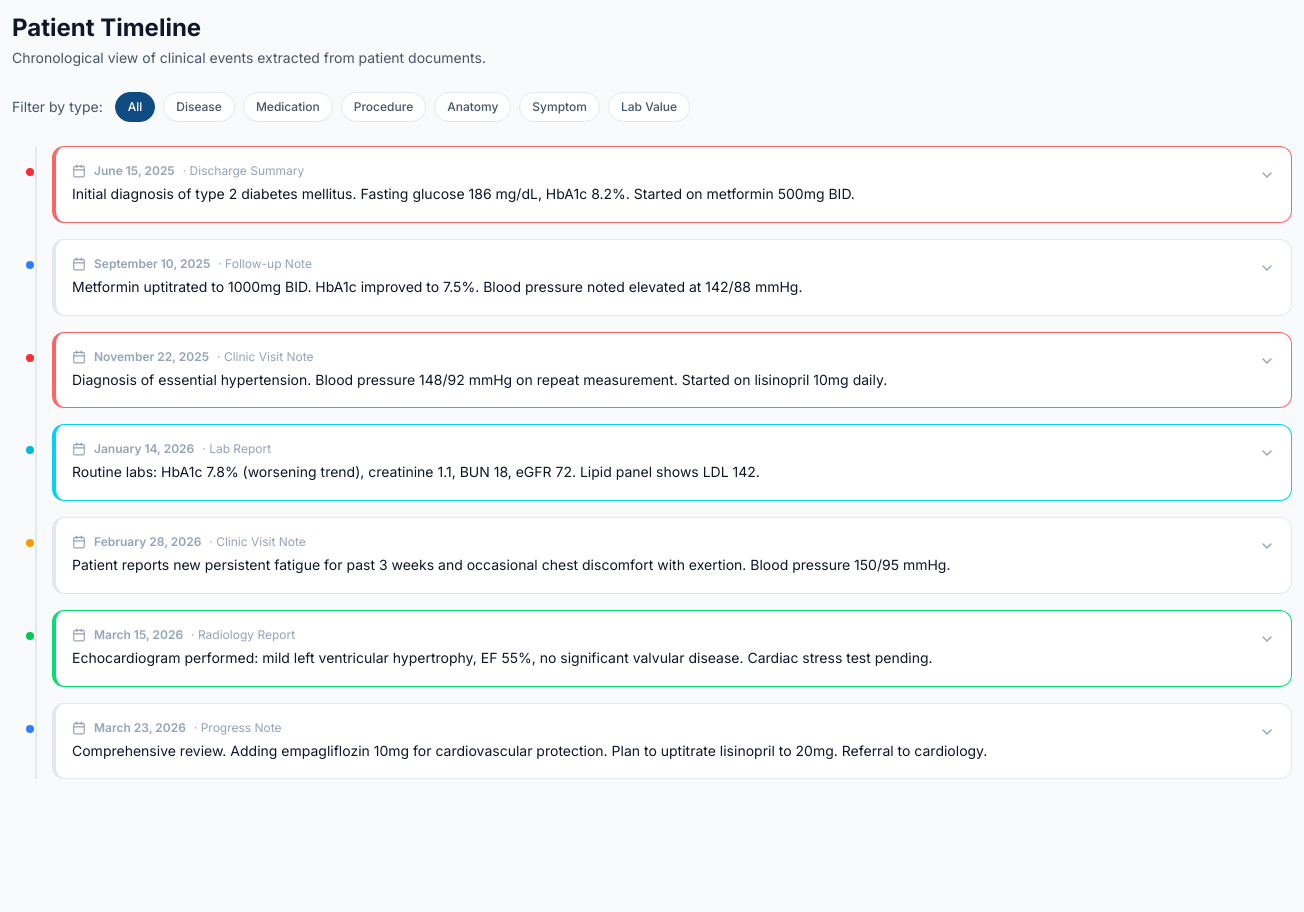
Test case: Timeline › filters to procedure events only
Click the button "Procedure" at (384, 107), box [341,92,426,122]
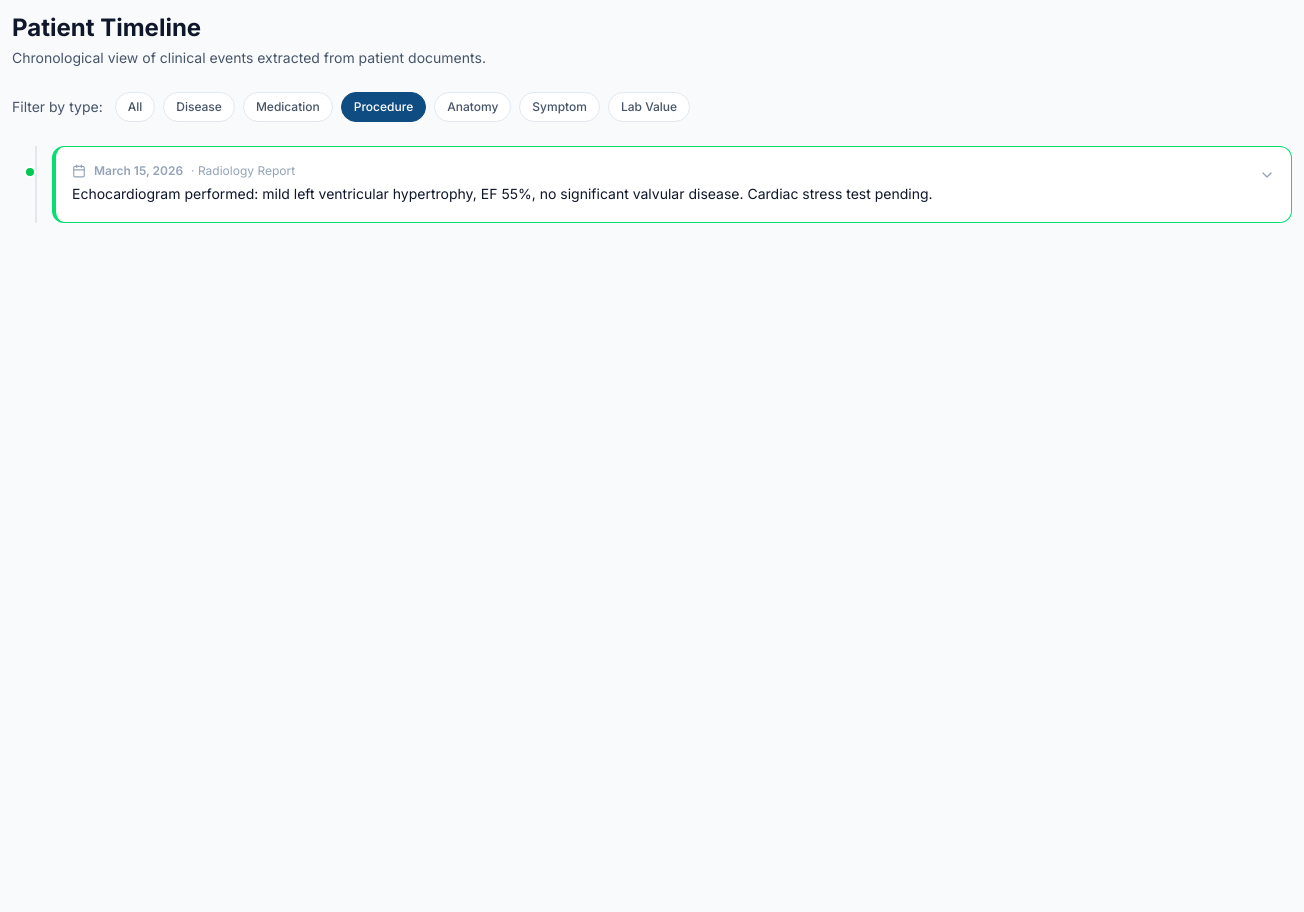
Check: the text "Echocardiogram performed" is shown, box [72,185,933,202]
Check: the button "Initial diagnosis of type 2 diabetes" is gone
